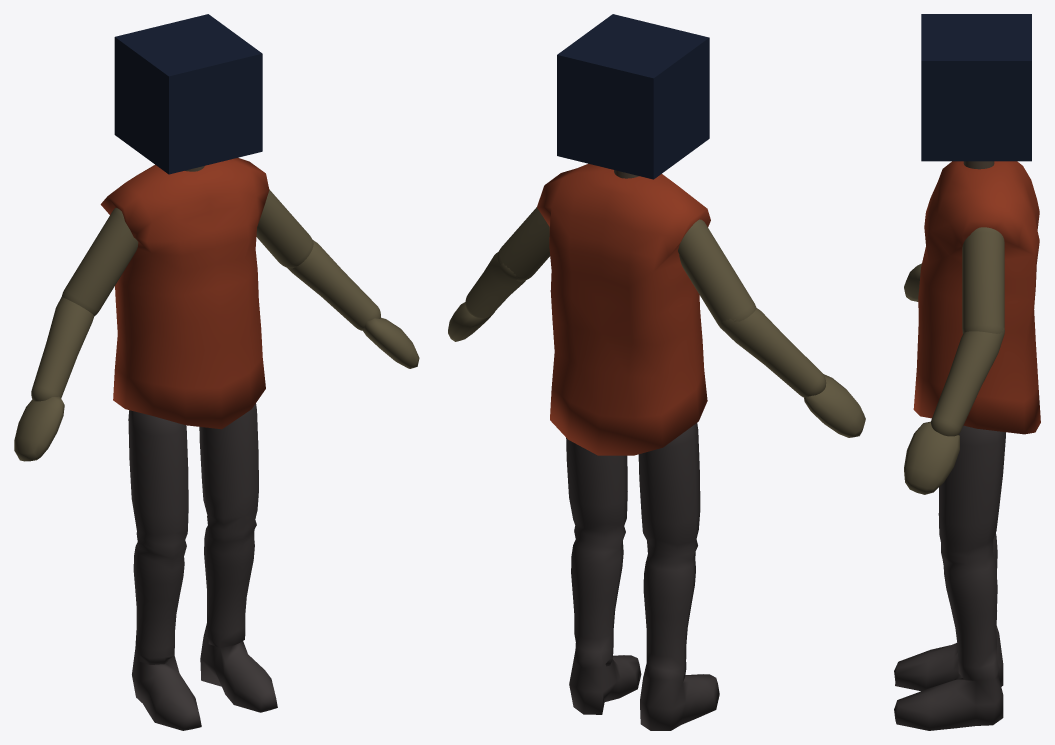
Rendered from figure1.fbx.
The picture shows the model from 3 angles, left to right: view 1: azimuth 30°, elevation 25°; view 2: azimuth 150°, elevation 25°; view 3: azimuth 270°, elevation 25°; orthographic projection. The views are drawn at different scales.
Visible parts, largest first — view 1: shirt.003, legs_1.003, Cube.035, arms.003; view 2: shirt.003, legs_1.003, Cube.035, arms.003; view 3: shirt.003, legs_1.003, Cube.035, arms.003.
Boxes of the visible parts, x1,y1,x2,y2 form: shirt.003: [100, 158, 269, 429]; legs_1.003: [128, 403, 277, 730]; Cube.035: [114, 14, 262, 174]; arms.003: [14, 189, 419, 461]; shirt.003: [537, 163, 710, 455]; legs_1.003: [566, 423, 719, 730]; Cube.035: [557, 14, 709, 179]; arms.003: [448, 207, 865, 437]; shirt.003: [913, 161, 1040, 434]; legs_1.003: [894, 425, 1005, 730]; Cube.035: [921, 14, 1031, 161]; arms.003: [904, 227, 1004, 494].
Bounding box in the file's own units: 23.24 × 36.01 × 7.24.
